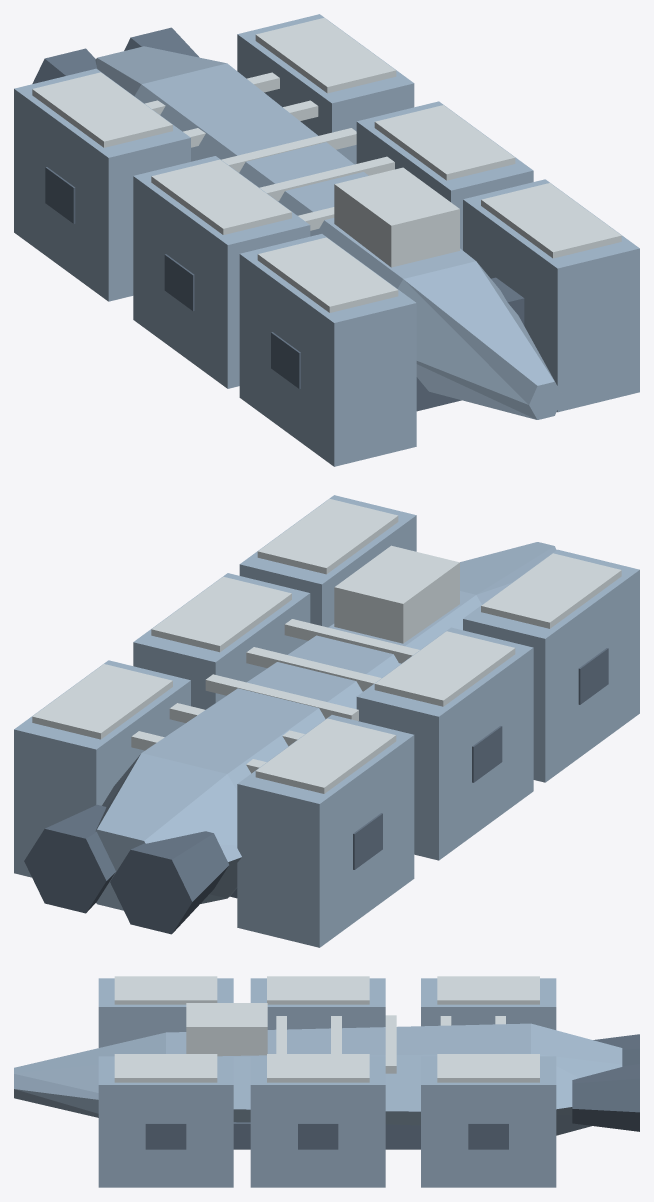
The picture shows the model from 3 angles, top to bottom: view 1: azimuth 30°, elevation 25°; view 2: azimuth 150°, elevation 25°; view 3: azimuth 270°, elevation 25°; orthographic projection. The views are drawn at different scales.
Size of the model in its own units: 3.89 by 2.01 by 9.54.
